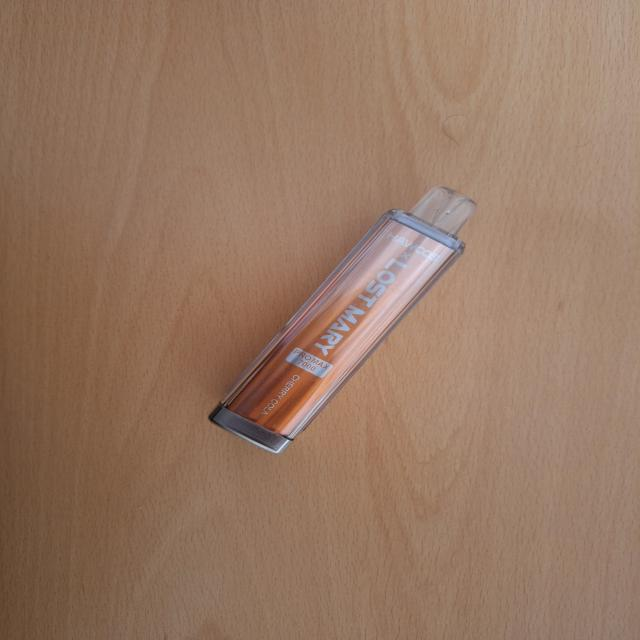Hazard: (207, 184, 477, 454)
